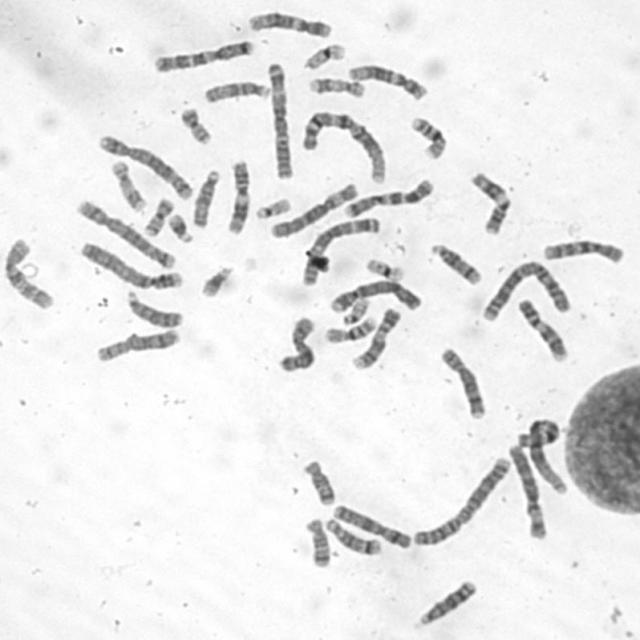A1: (297, 106, 388, 186), (516, 418, 568, 497)
A2: (410, 453, 514, 550), (478, 257, 574, 324)
A3: (298, 214, 382, 287), (264, 58, 294, 180)
B4: (77, 238, 184, 292), (327, 277, 422, 314)
B5: (72, 196, 178, 270), (95, 130, 194, 202)
C10: (1, 235, 57, 311), (540, 236, 626, 265)
C11: (467, 168, 512, 236), (223, 156, 253, 237)
C12: (344, 60, 430, 102), (245, 8, 334, 38)
C6: (267, 180, 360, 240), (504, 440, 550, 540)
C7: (341, 176, 435, 220), (149, 36, 256, 74)
C8: (436, 344, 488, 421), (93, 324, 182, 364)
C9: (516, 296, 570, 364), (350, 306, 402, 370)
D13: (411, 576, 478, 628), (122, 286, 184, 329)
D14: (322, 514, 384, 557), (428, 240, 484, 286)
D15: (188, 166, 222, 230), (201, 78, 273, 104)
E16: (408, 113, 448, 160), (322, 313, 378, 345)
E17: (108, 158, 148, 213), (306, 74, 368, 100)
E18: (299, 456, 337, 507), (301, 514, 333, 569)
F19: (300, 40, 348, 73), (363, 254, 407, 282)
F20: (177, 103, 214, 147), (140, 195, 176, 237)
G21: (197, 263, 235, 298), (166, 210, 195, 244)
G22: (252, 194, 293, 220), (339, 296, 372, 326)
X: (327, 501, 413, 551), (275, 312, 318, 375)
